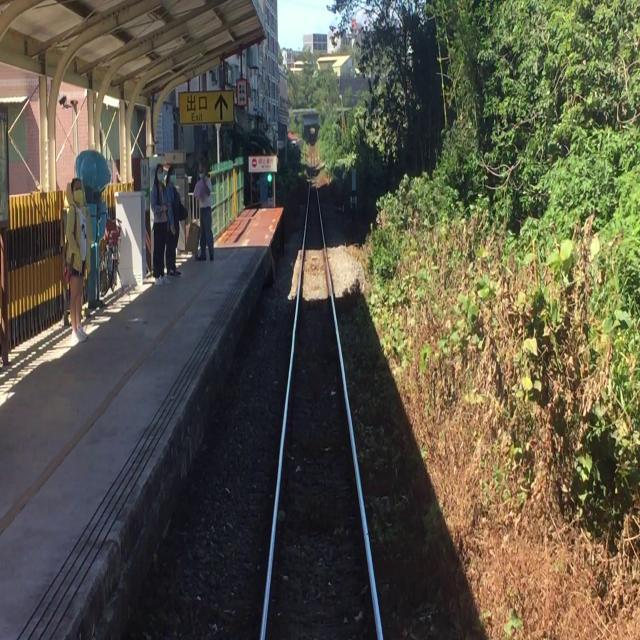track: (251, 156, 391, 637)
